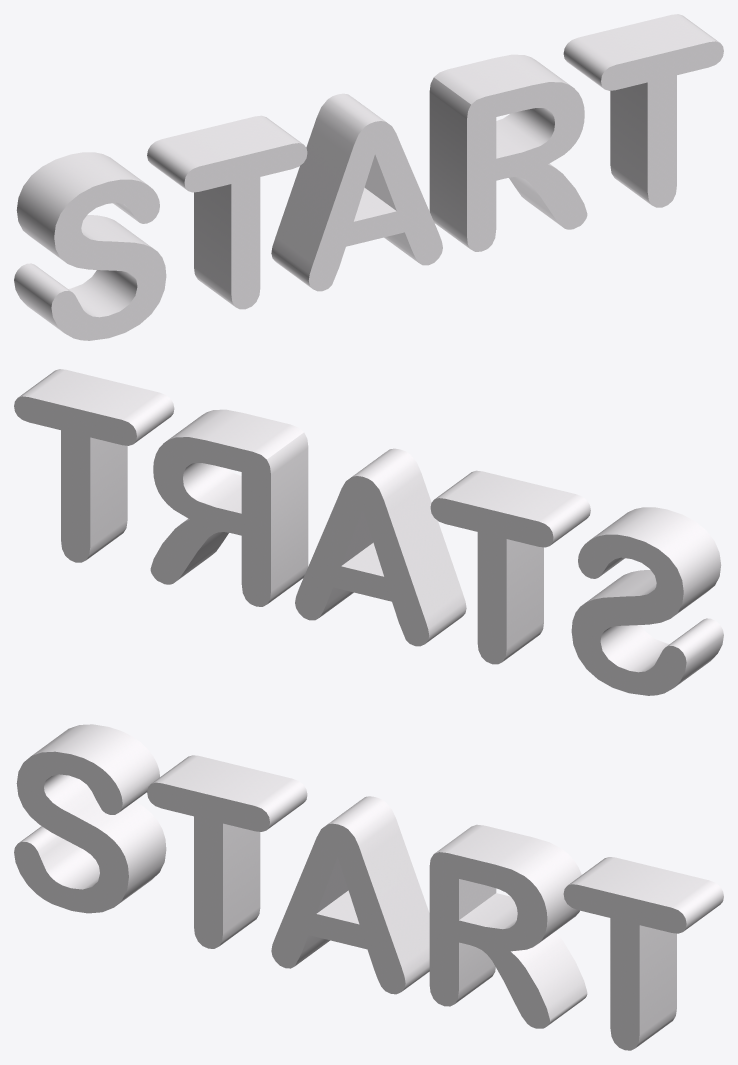
The model's file is START.fbx.
3 views of the same model, one above another, from view 1: azimuth 30°, elevation 25°; view 2: azimuth 150°, elevation 25°; view 3: azimuth 330°, elevation 25° (orthographic).
Visible parts, largest first — view 1: Mesh20, Mesh17, Mesh1, Mesh16, Mesh021; view 2: Mesh20, Mesh17, Mesh1, Mesh16, Mesh021; view 3: Mesh20, Mesh17, Mesh1, Mesh021, Mesh16.
Boxes of the visible parts, bbox=[...] form: Mesh20: bbox=[429, 54, 587, 251]; Mesh17: bbox=[14, 152, 166, 340]; Mesh1: bbox=[271, 93, 442, 291]; Mesh16: bbox=[147, 115, 307, 309]; Mesh021: bbox=[563, 14, 723, 207]; Mesh20: bbox=[150, 409, 308, 606]; Mesh17: bbox=[571, 507, 723, 695]; Mesh1: bbox=[295, 448, 466, 646]; Mesh16: bbox=[430, 470, 590, 664]; Mesh021: bbox=[14, 369, 174, 562]; Mesh20: bbox=[429, 824, 587, 1028]; Mesh17: bbox=[14, 724, 166, 913]; Mesh1: bbox=[271, 796, 429, 994]; Mesh021: bbox=[563, 857, 723, 1050]; Mesh16: bbox=[147, 755, 307, 948].
Size of the model in its own units: 89.95 by 20.66 by 8.66.
